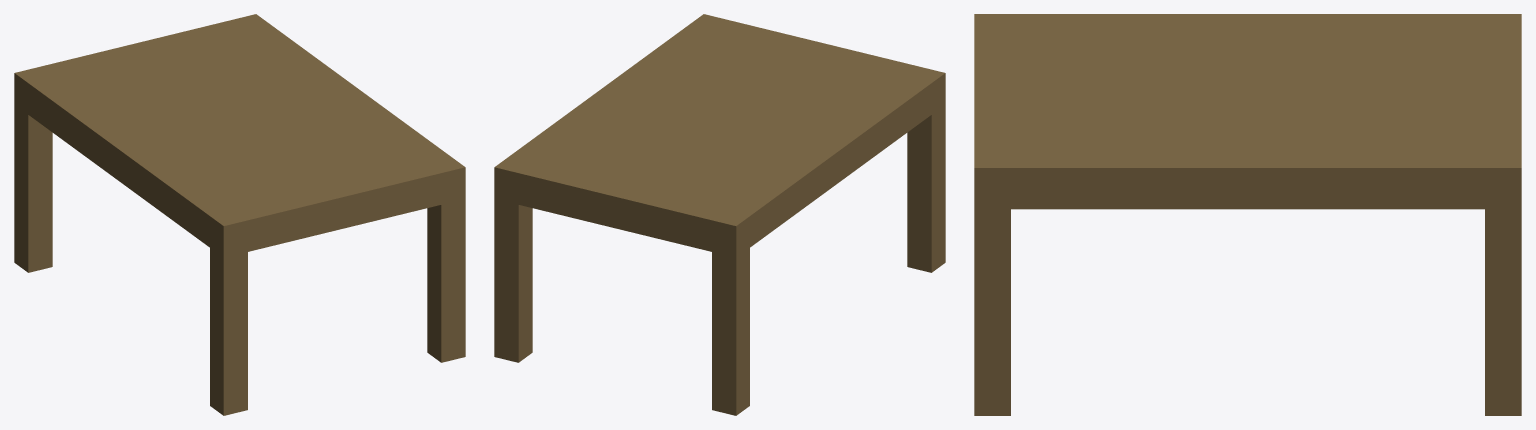
The model's file is Table.fbx.
3 renders of one model, left to right at view 1: azimuth 30°, elevation 25°; view 2: azimuth 150°, elevation 25°; view 3: azimuth 270°, elevation 25°, orthographic. The views are drawn at different scales.
Visible parts, largest first — view 1: Table; view 2: Table; view 3: Table.
Part boxes in pixels (x1,y1,x2,y2): Table: (14,14,465,415); Table: (494,14,945,415); Table: (974,14,1521,415).
Bounding box in the file's own units: 4 × 3 × 6.
